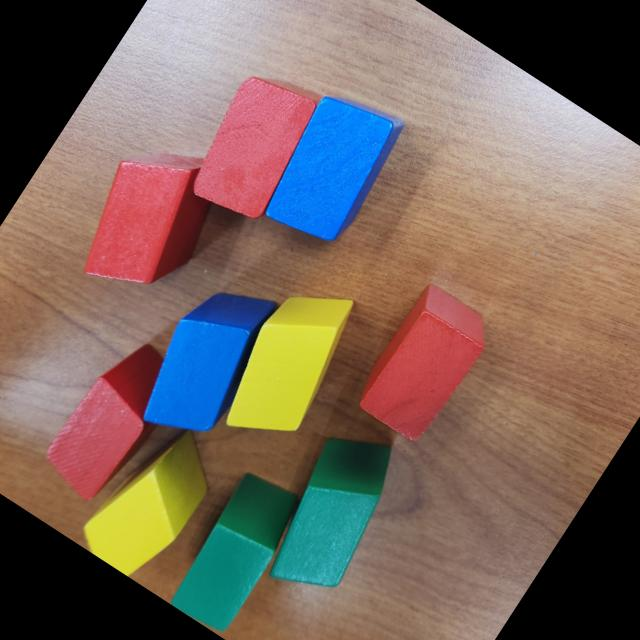blue: (121, 262, 293, 458), (250, 79, 413, 258)
green: (246, 415, 417, 611), (162, 464, 310, 638)
red: (57, 122, 241, 320), (31, 326, 188, 510), (173, 60, 331, 236), (347, 279, 499, 449)
yellow: (206, 267, 372, 459), (72, 409, 229, 586)
